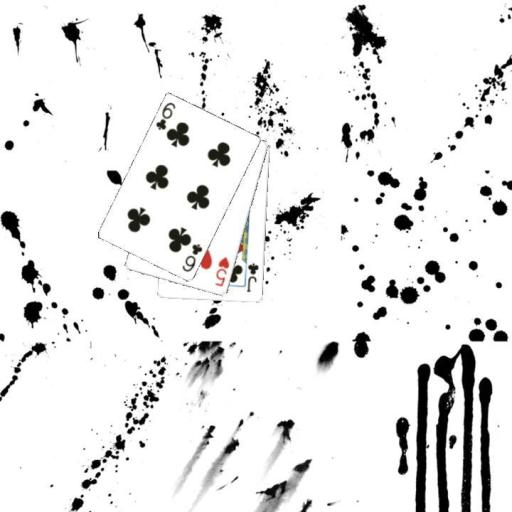5H: (212, 254, 231, 288)
6C: (179, 241, 204, 274), (153, 100, 177, 132)
JC: (244, 260, 260, 294)
